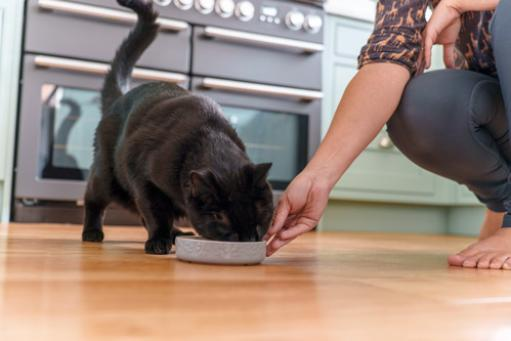cat_eating: (83, 0, 273, 264)
